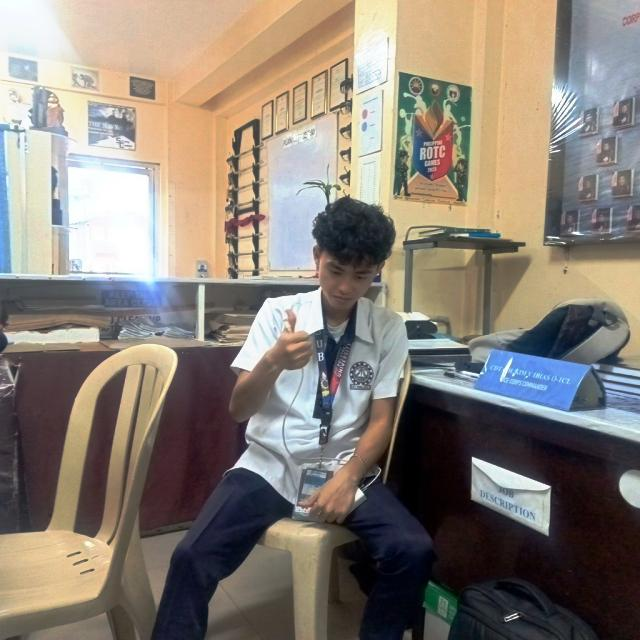thumbs_up: (296, 473, 359, 526), (270, 307, 316, 373)
